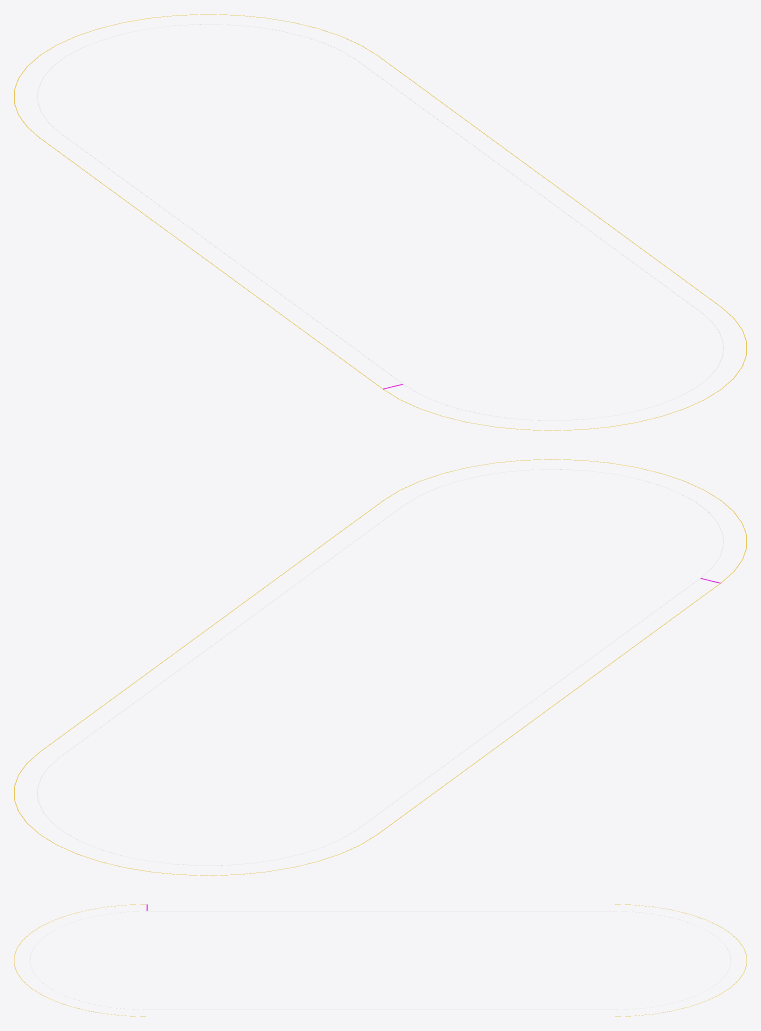
File: OvalRaceTrack.dae
3 views of the same model, one above another, from view 1: azimuth 30°, elevation 25°; view 2: azimuth 150°, elevation 25°; view 3: azimuth 270°, elevation 25° (orthographic). The views are drawn at different scales.
Visible parts, largest first — view 1: Body1_Powder_Coat_(Yellow), Body1_Powder_Coat_(White); view 2: Body1_Powder_Coat_(Yellow), Body1_Powder_Coat_(White); view 3: Body1_Powder_Coat_(White), Body1_Powder_Coat_(Yellow).
Boxes of the visible parts, x1,y1,x2,y2 form: Body1_Powder_Coat_(Yellow): (14,14,746,430); Body1_Powder_Coat_(White): (37,24,723,420); Body1_Powder_Coat_(Yellow): (14,459,746,875); Body1_Powder_Coat_(White): (37,469,723,865); Body1_Powder_Coat_(White): (29,911,731,1009); Body1_Powder_Coat_(Yellow): (14,904,746,1016).
Bounding box in the file's own units: 34.1 × 94 × 0.002.
